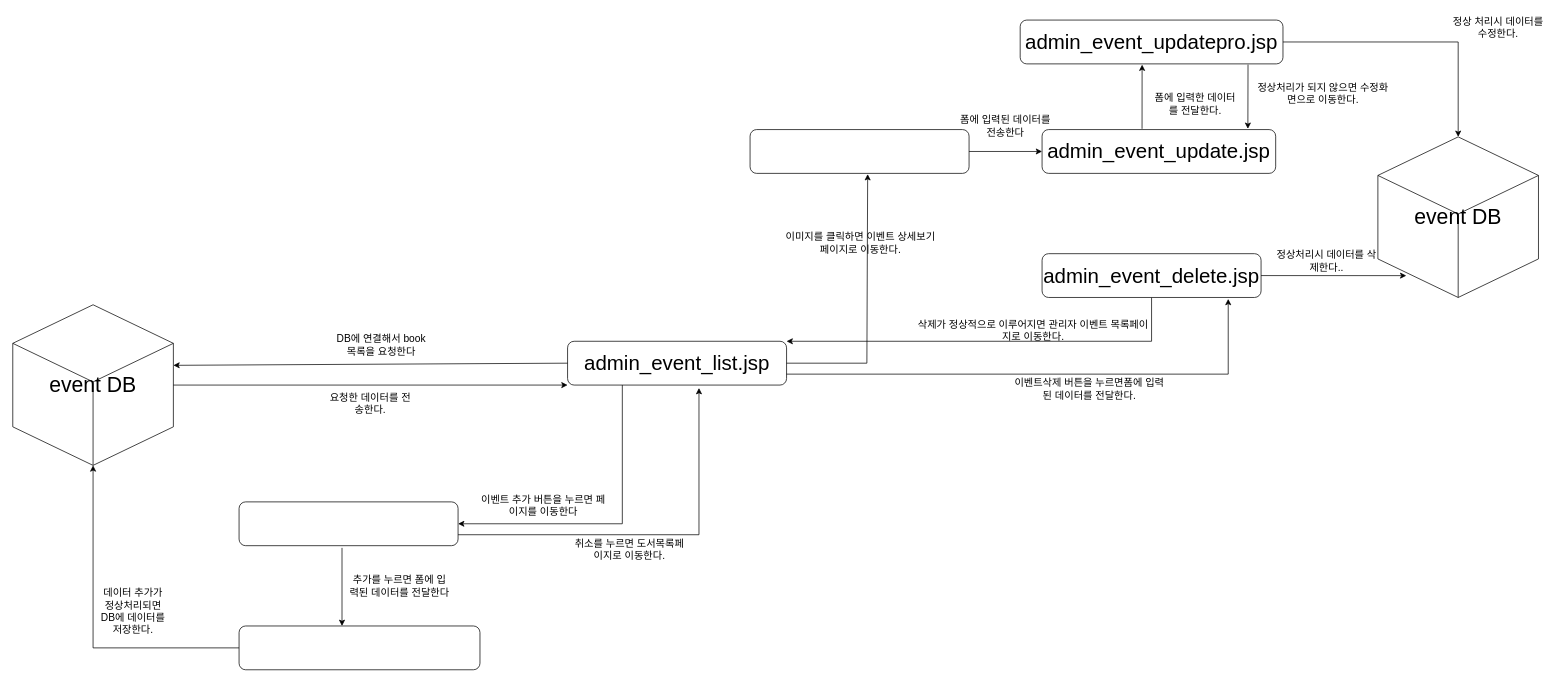
Some shapes in this 1559 by 683 pixel diagram are drawn without their labels. Here are the shapes that lost their labels. From the top down, the centre of each, then its label:
point 859,151: admin_event_get .jsp
point 348,523: admin_event_add.jsp
point 359,647: admin_event_addpro.jsp
